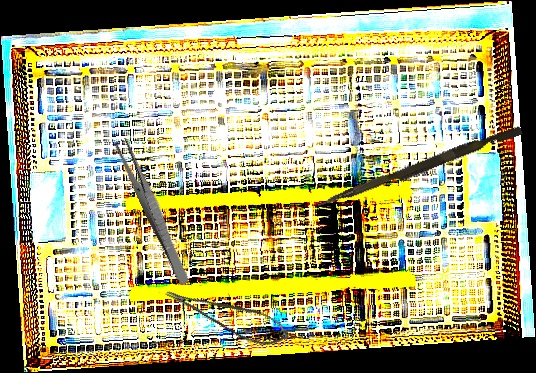Dressing Forceps: (112, 136, 195, 287)
Micro Scissor: (163, 268, 294, 358)
Pusher: (316, 120, 523, 216)
